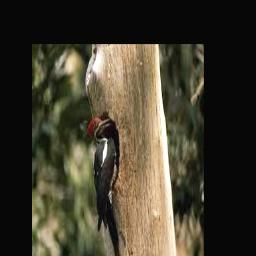Woodpecker: (88, 117, 121, 256)
